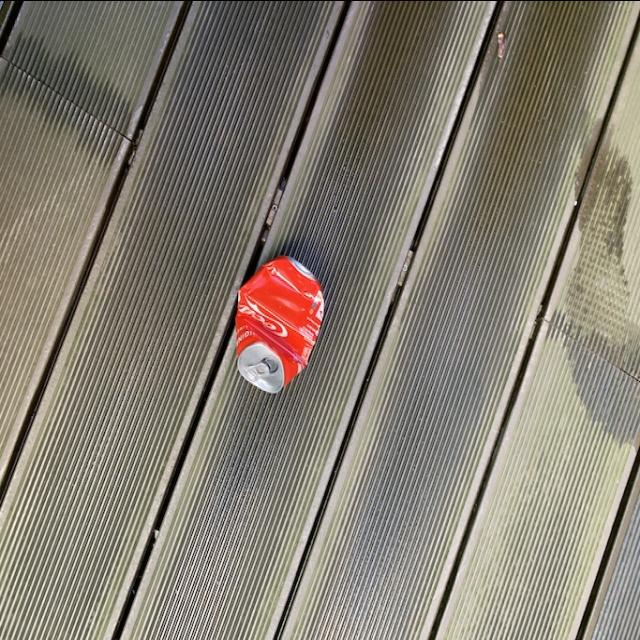Aluminum Can: (232, 256, 326, 388)
